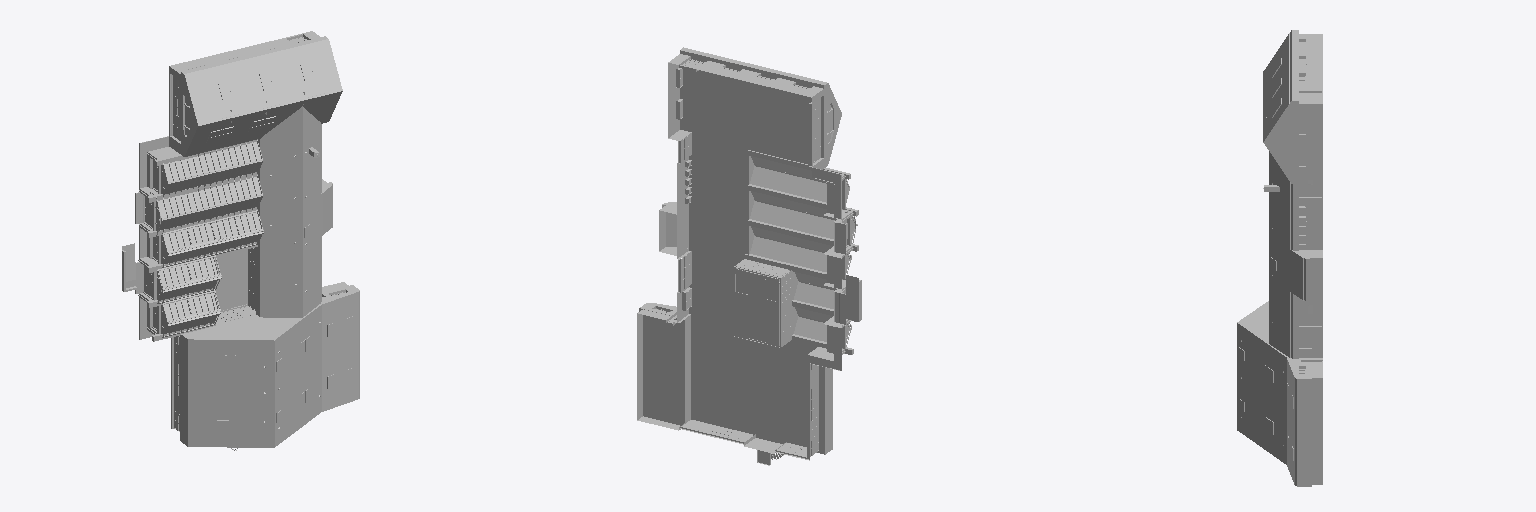
The model's file is LEG-media_library_alternative_A_V1.obj.
3 renders of one model, left to right at view 1: azimuth 30°, elevation 25°; view 2: azimuth 150°, elevation 25°; view 3: azimuth 270°, elevation 25°, orthographic.
Parts seen in each view (by area): view 1: GEO-media_library_alternative_A; view 2: GEO-media_library_alternative_A; view 3: GEO-media_library_alternative_A.
Part boxes in pixels (bbox=[...]): GEO-media_library_alternative_A: bbox=[122, 31, 359, 450]; GEO-media_library_alternative_A: bbox=[637, 47, 861, 465]; GEO-media_library_alternative_A: bbox=[1237, 30, 1322, 486].
Bounding box in the file's own units: 27.33 × 44.9 × 9.06.